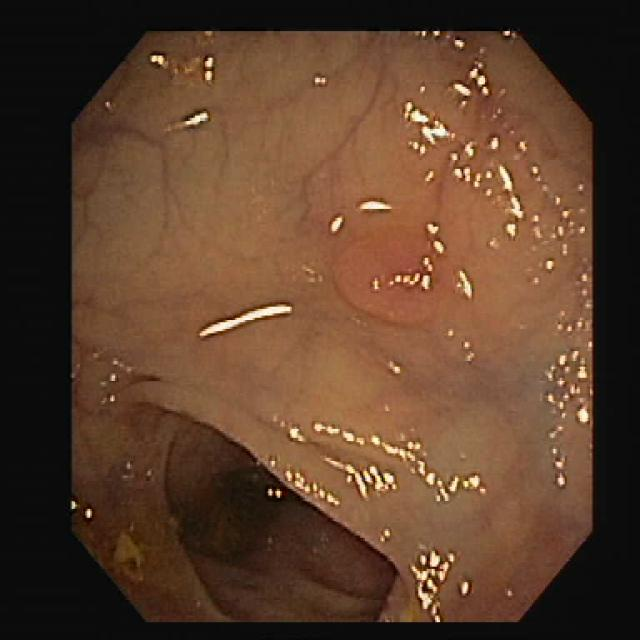tumor: (333, 228, 450, 324)
